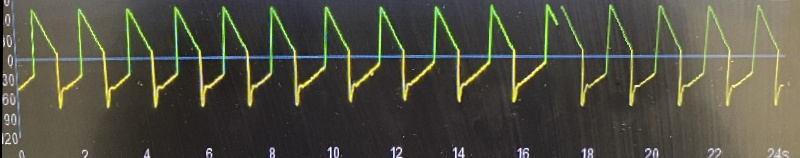peepi: (11, 0, 792, 110)
